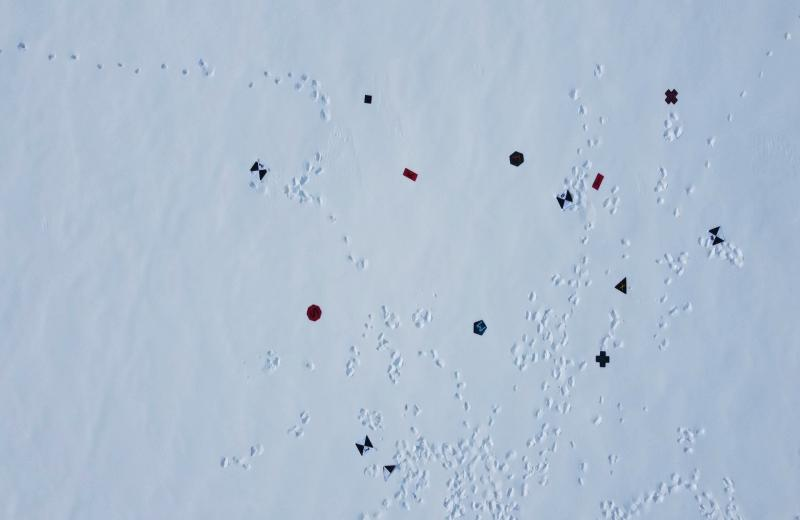Cross: (595, 349, 610, 368), (664, 88, 678, 105)
Hexagon: (508, 150, 524, 169)
Octagon: (305, 302, 323, 323)
Pentagon: (472, 318, 488, 336)
Rectangle: (591, 172, 606, 191), (402, 167, 418, 183)
Square: (363, 94, 372, 105)
Triangle: (614, 276, 630, 296)
